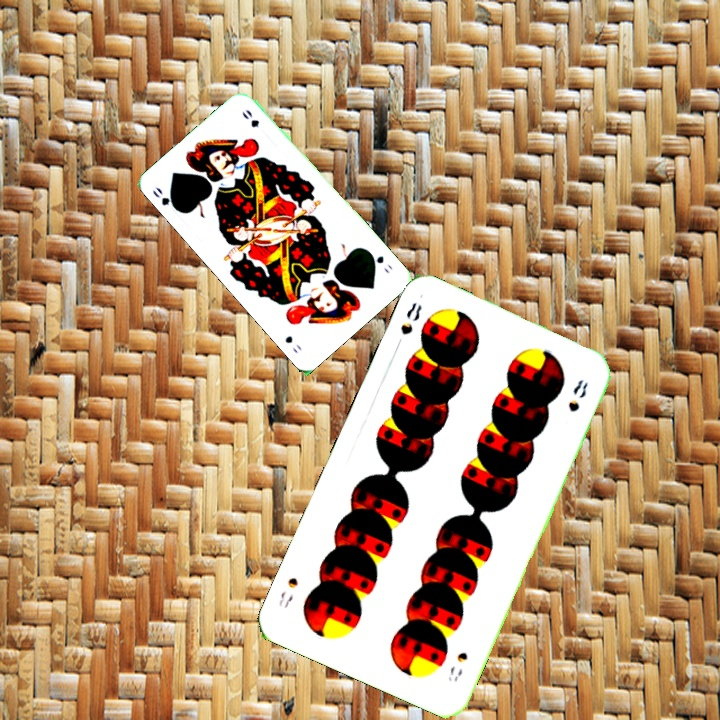GO: (148, 183, 182, 215), (364, 247, 395, 276)
S8: (396, 298, 425, 338), (444, 648, 471, 684)
